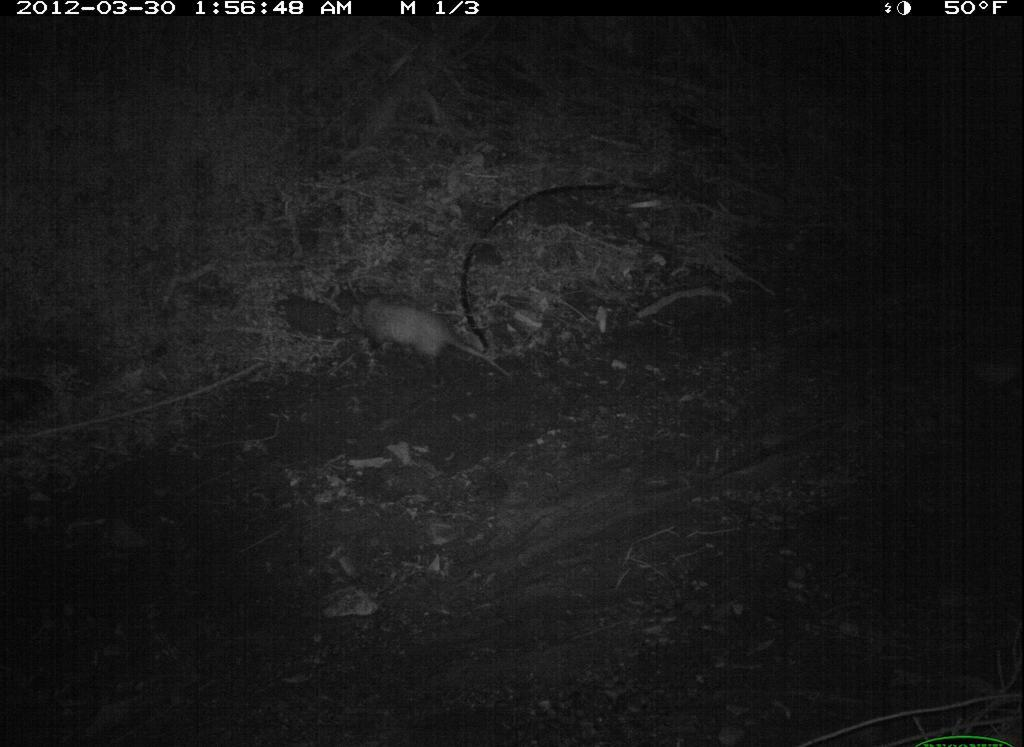opossum: (318, 282, 536, 409)
